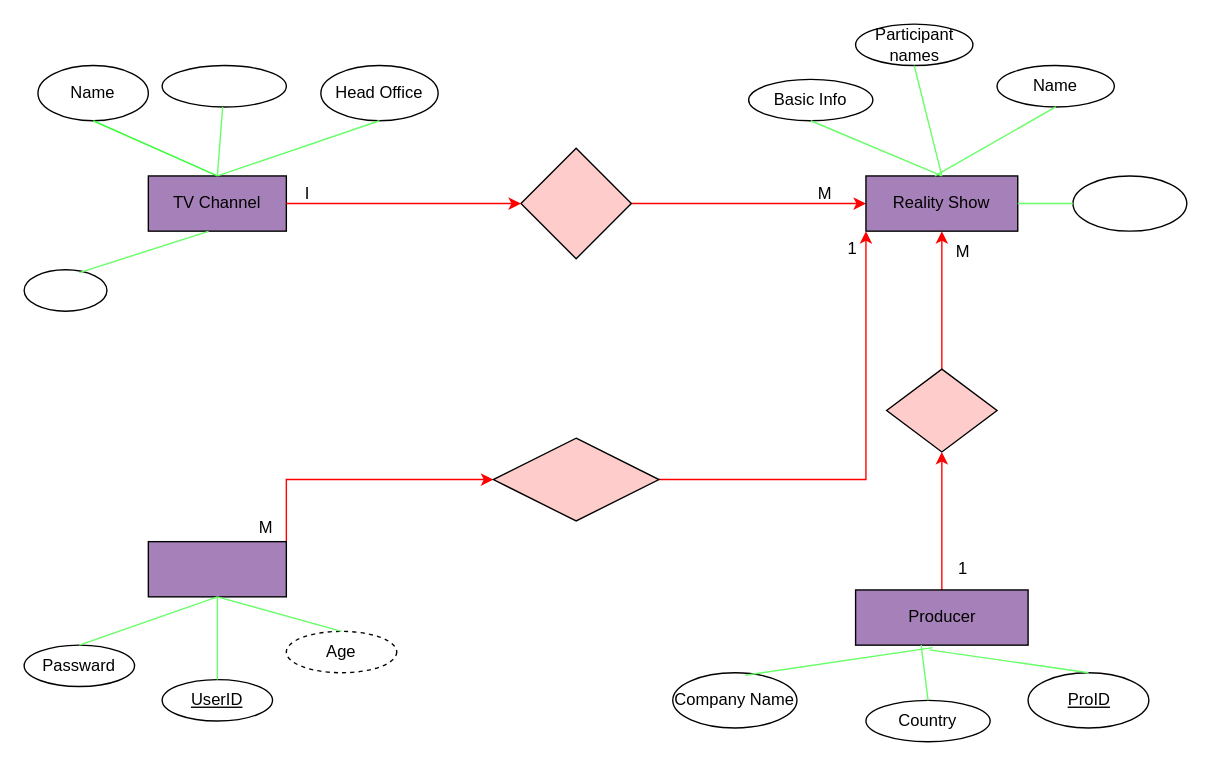
The diagram is 1212 pixels wide and 766 high, and some of its shapes have lost their labels. Each missing label, with the box of its shape:
broadcasts: (520, 147, 631, 259)
ChaID: (23, 268, 107, 311)
produced: (885, 368, 997, 452)
Rates: (492, 437, 659, 521)
ShowID: (1072, 175, 1187, 231)
Start Year: (161, 64, 286, 107)
User: (147, 540, 286, 597)
